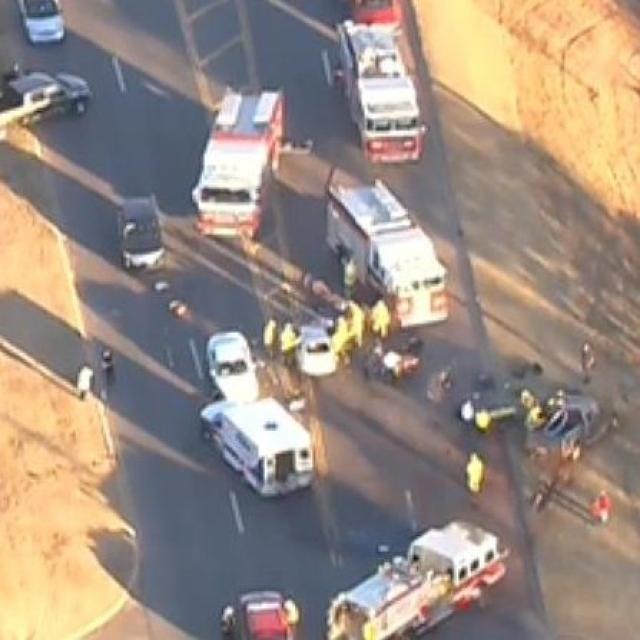traffic_incident: (514, 366, 593, 473), (196, 323, 268, 406), (278, 304, 354, 379)
